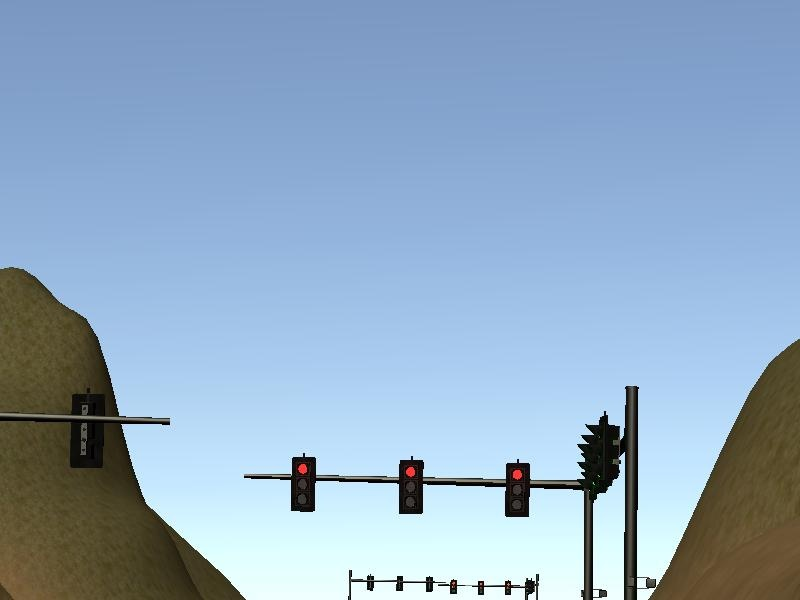red: (393, 455, 427, 517), (287, 455, 318, 514), (504, 458, 533, 520)
